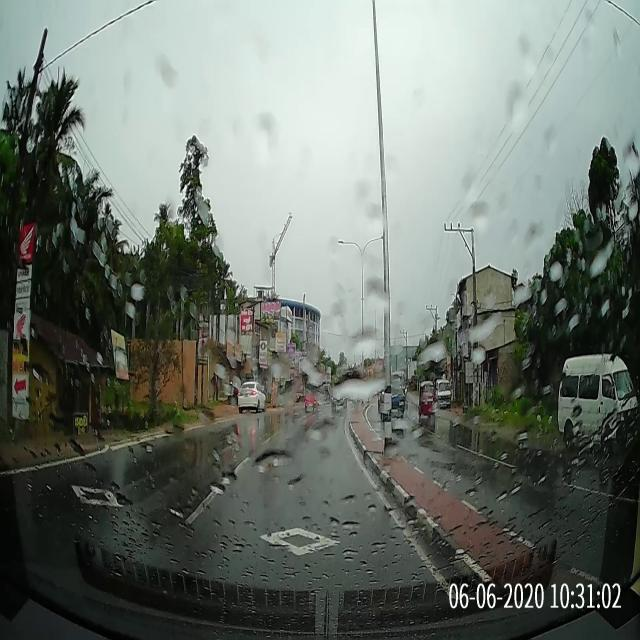diamond: (167, 515, 431, 566)
